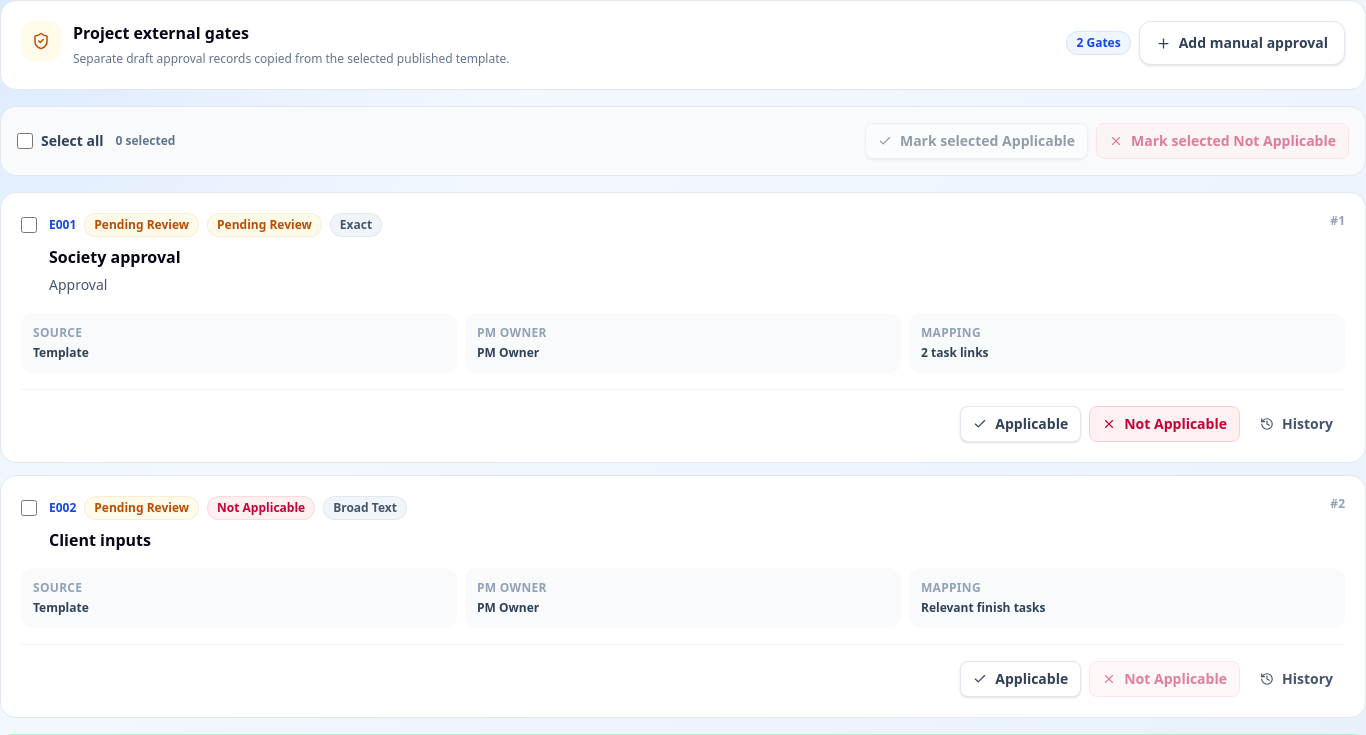
Test case: Project external gate applicability › requires an affected task for a blocking manual approval and uses mobile actions
The width and height of the screenshot is (1366, 735).
Check: the text "2 gates" is shown, box x1=1066 y1=31 x2=1131 y2=55
Click the button "Add manual approval": x=1242, y=43 x1=1139 y1=21 x2=1345 y2=65
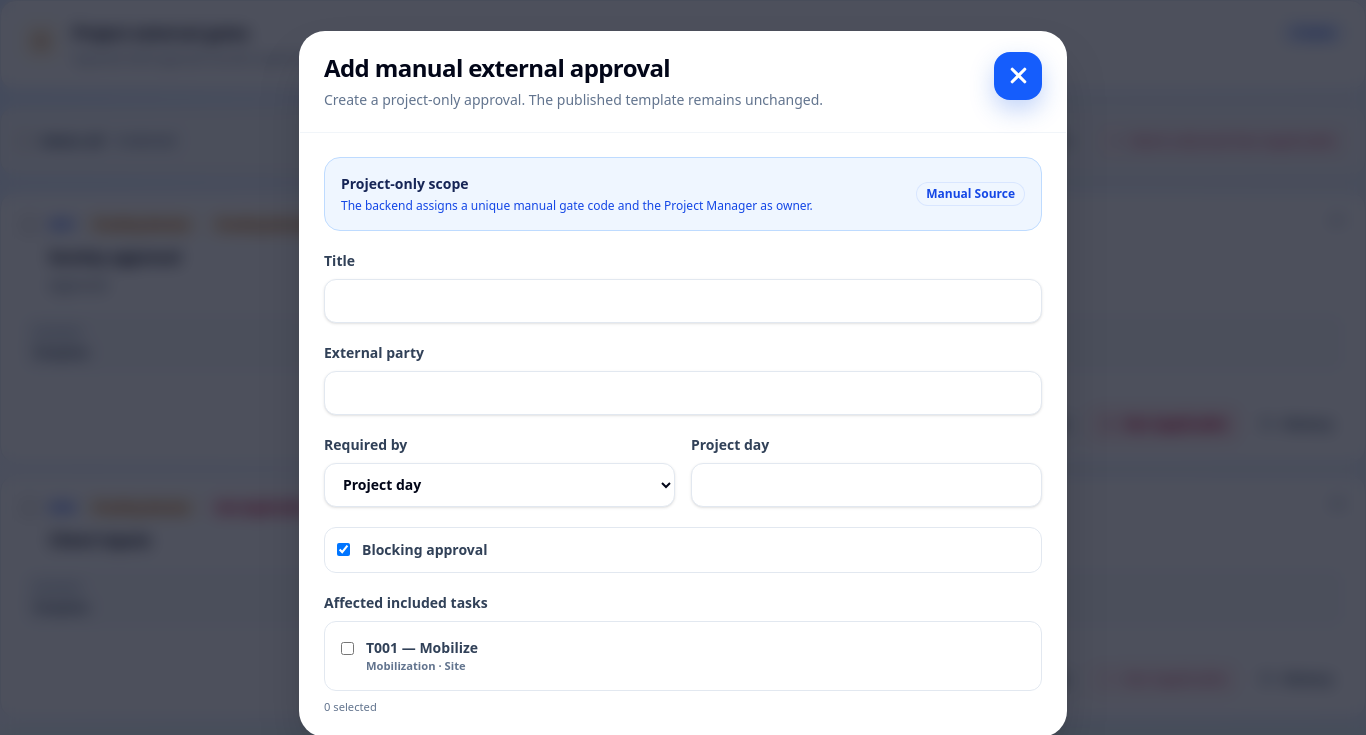
Check: the text "project-only approval" is shown, box x1=324 y1=90 x2=823 y2=109
In the field labelled "Title": x=683, y=301 x1=324 y1=279 x2=1042 y2=323, type "Approval"
In the field labelled "External party": x=683, y=393 x1=324 y1=371 x2=1042 y2=415, type "Client"
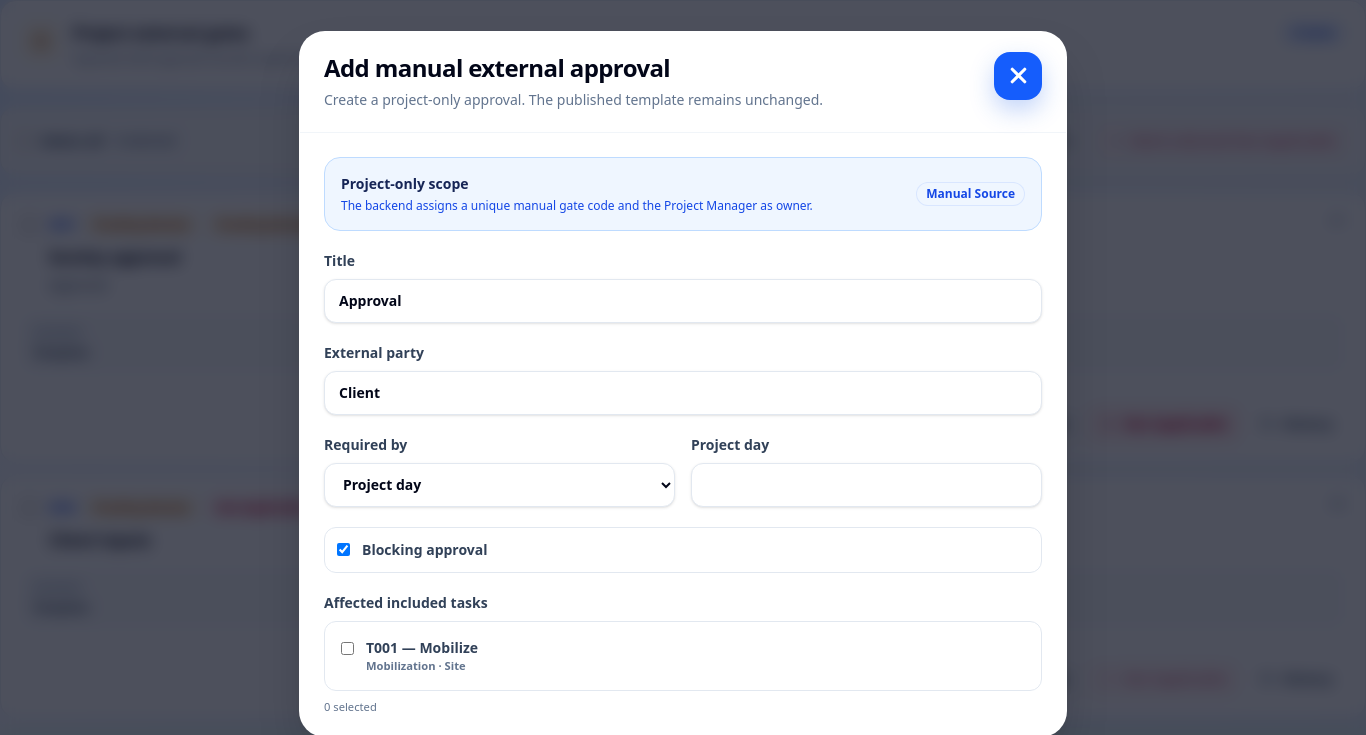
In the number field labelled "Project day": x=866, y=485 x1=691 y1=463 x2=1042 y2=507, type "2"
(page scrolled)
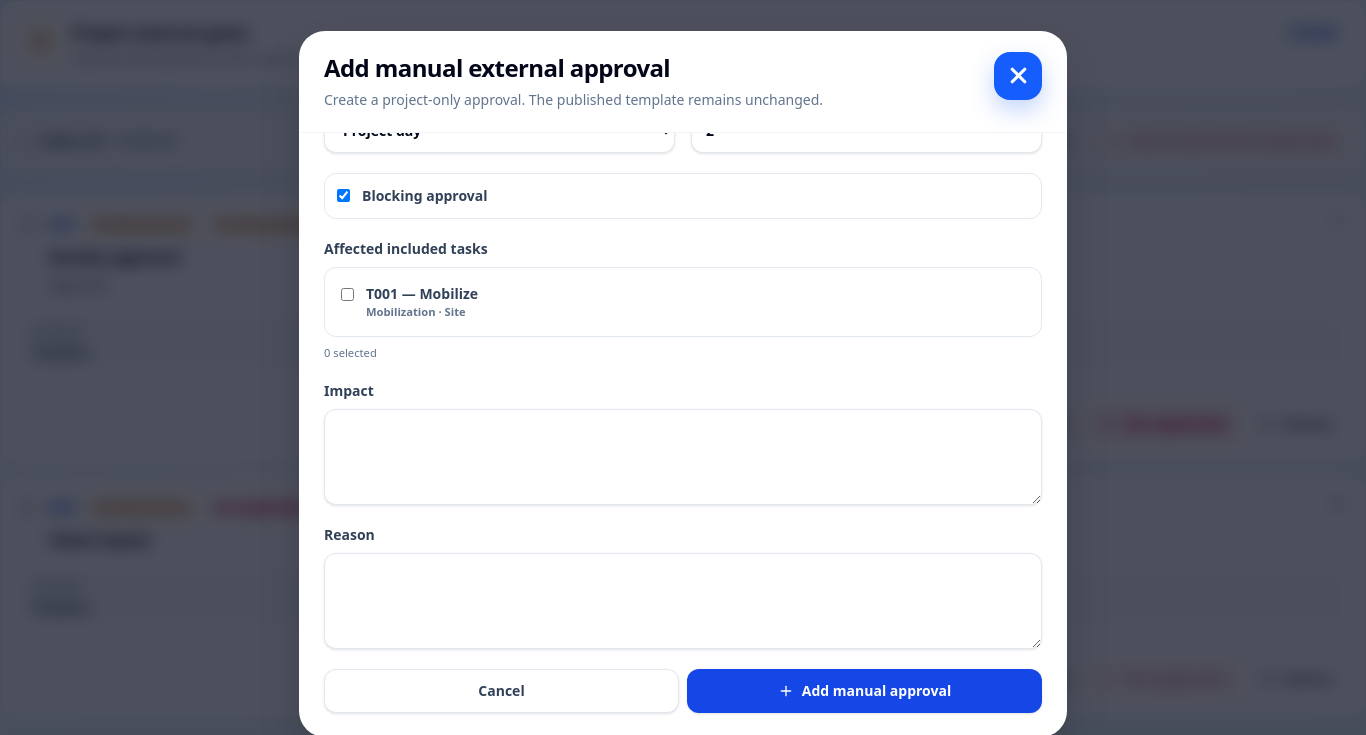
In the text box labelled "Impact": x=683, y=457 x1=324 y1=409 x2=1042 y2=505, type "Blocks work"
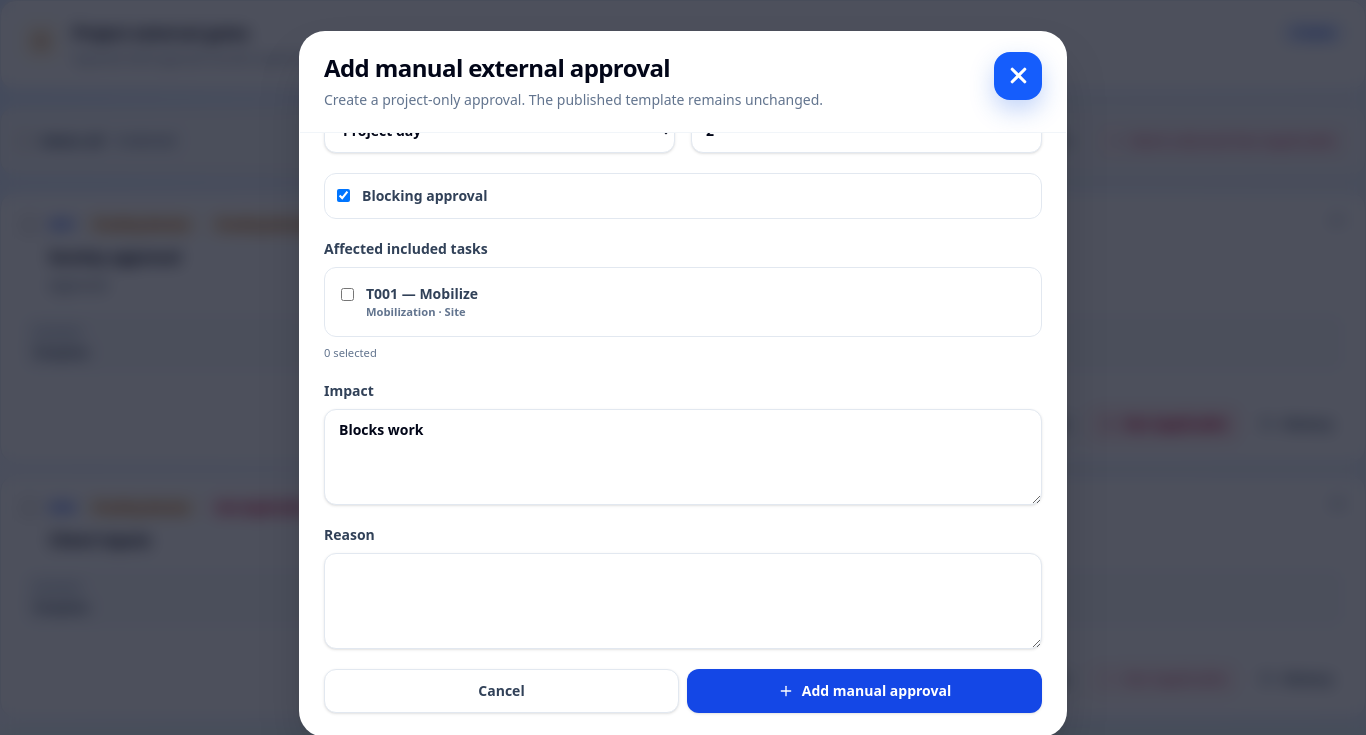
In the text box labelled "Reason": x=683, y=601 x1=324 y1=553 x2=1042 y2=649, type "Needed"
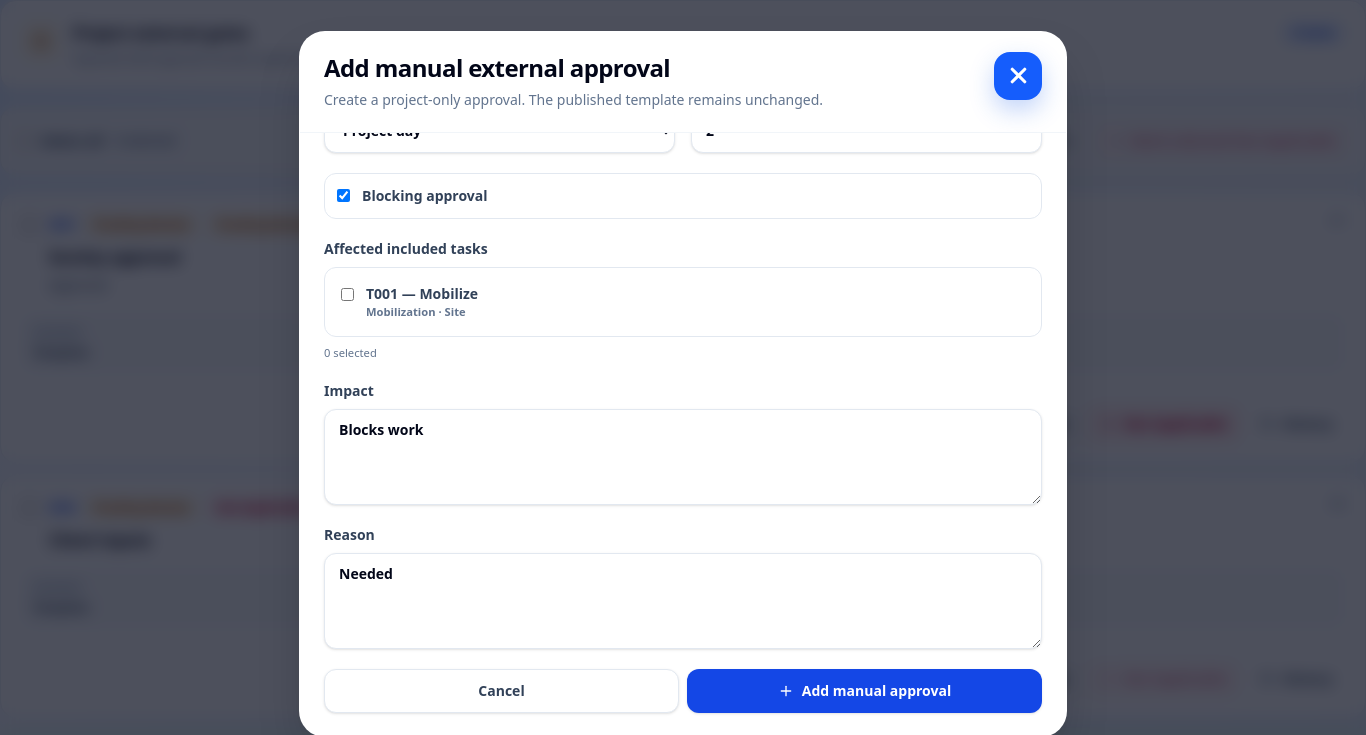
Click the button "Add manual approval": x=864, y=691 x1=687 y1=669 x2=1042 y2=713
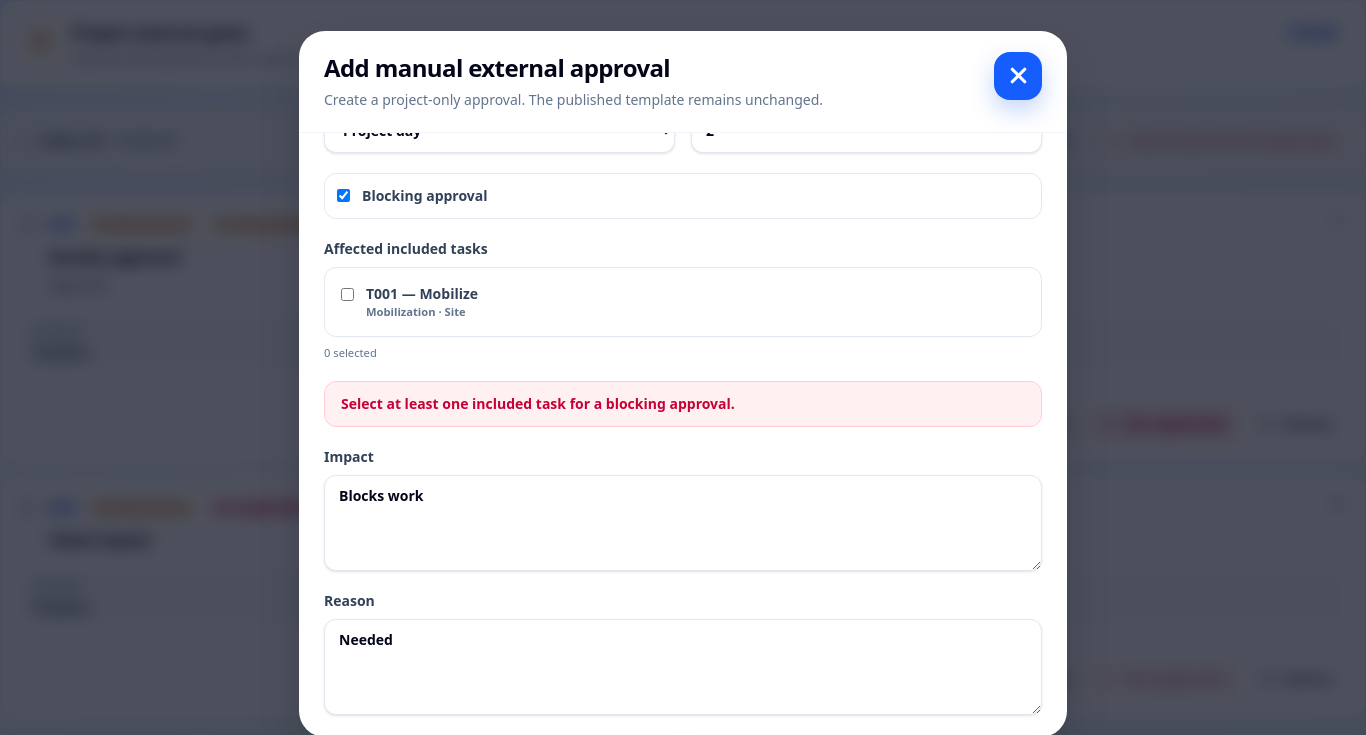
Check: the message shows "Select at least one included task", box x1=341 y1=394 x2=735 y2=413
